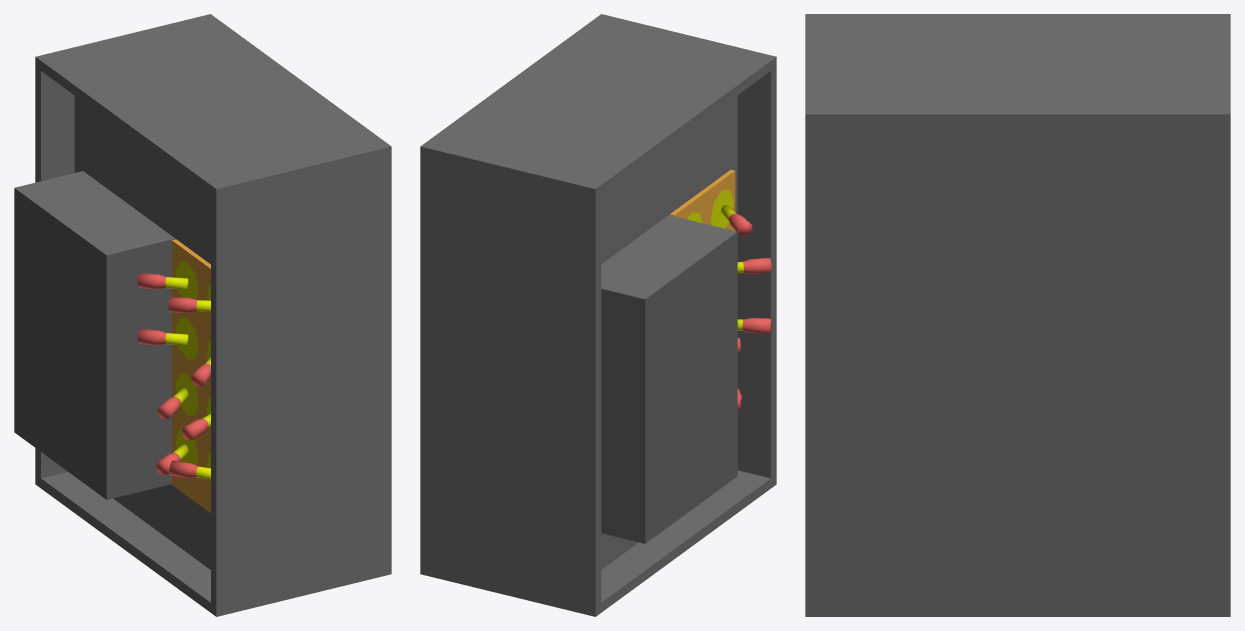
Rendered from ElectricalBox.fbx.
3 renders of one model, left to right at view 1: azimuth 30°, elevation 25°; view 2: azimuth 150°, elevation 25°; view 3: azimuth 270°, elevation 25°, orthographic. The views are drawn at different scales.
Visible parts, largest first — view 1: Battery; view 2: Battery; view 3: Battery.
Boxes of the visible parts, x1,y1,x2,y2 form: Battery: (14,14,391,616); Battery: (420,14,776,616); Battery: (805,14,1230,616).
Bounding box in the file's own units: 1.57 × 3.05 × 2.34.
